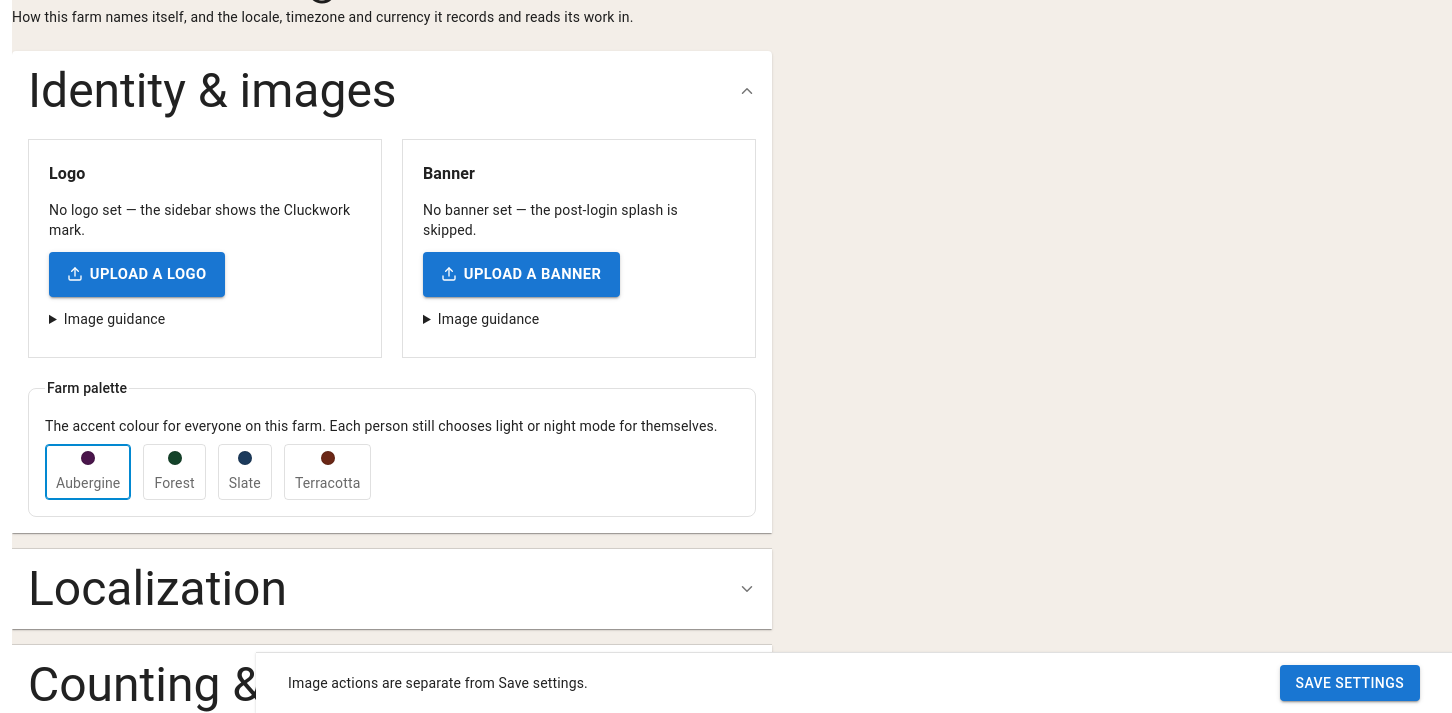
it: SettingsPage saving › sends every field, the base version, and an idempotency key
Click the button "Localization". click: (157, 588)
box: [12,549,772,629]
(page scrolled)
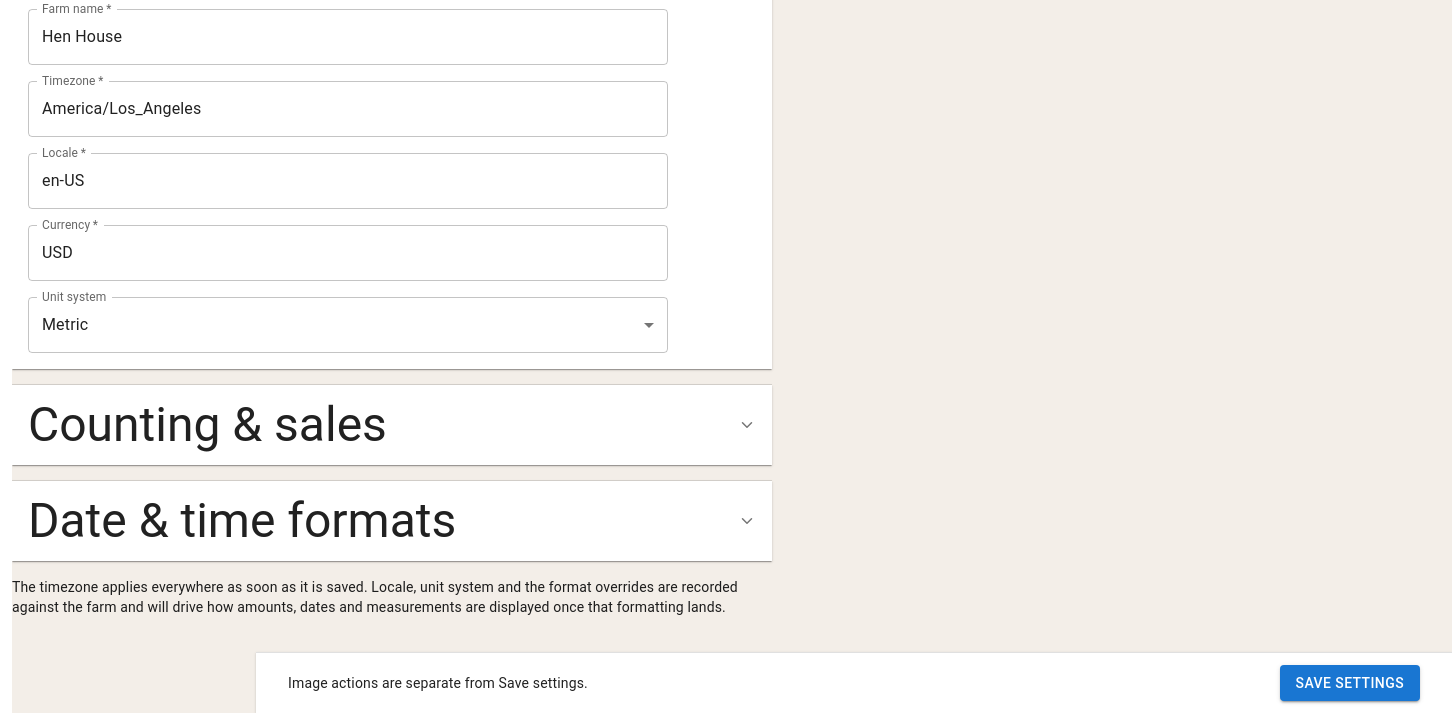
Click the button "Date & time formats". click: (392, 521)
box: [12,481,772,561]
(page scrolled)
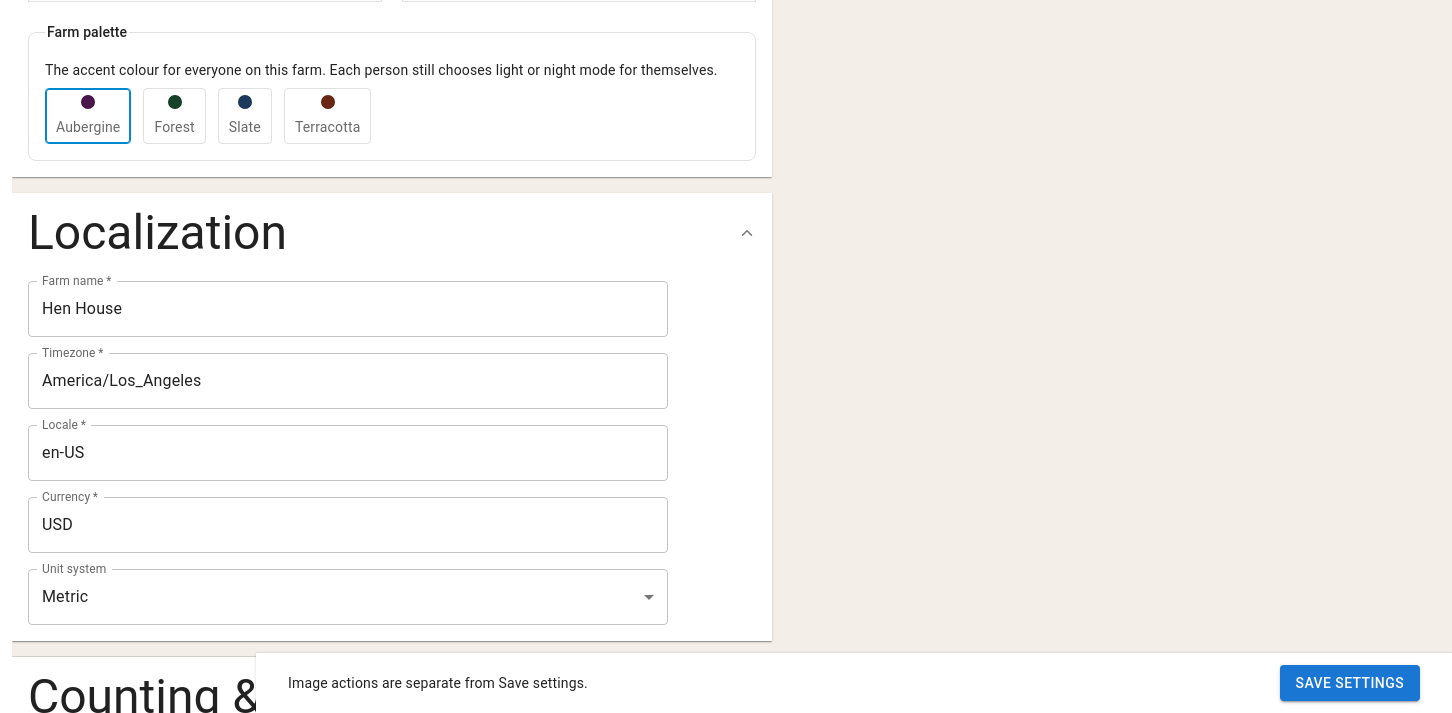
Replace the text in the field labelled "Farm name *" with "Coop Co". click: (348, 309)
box: [28,281,668,337]
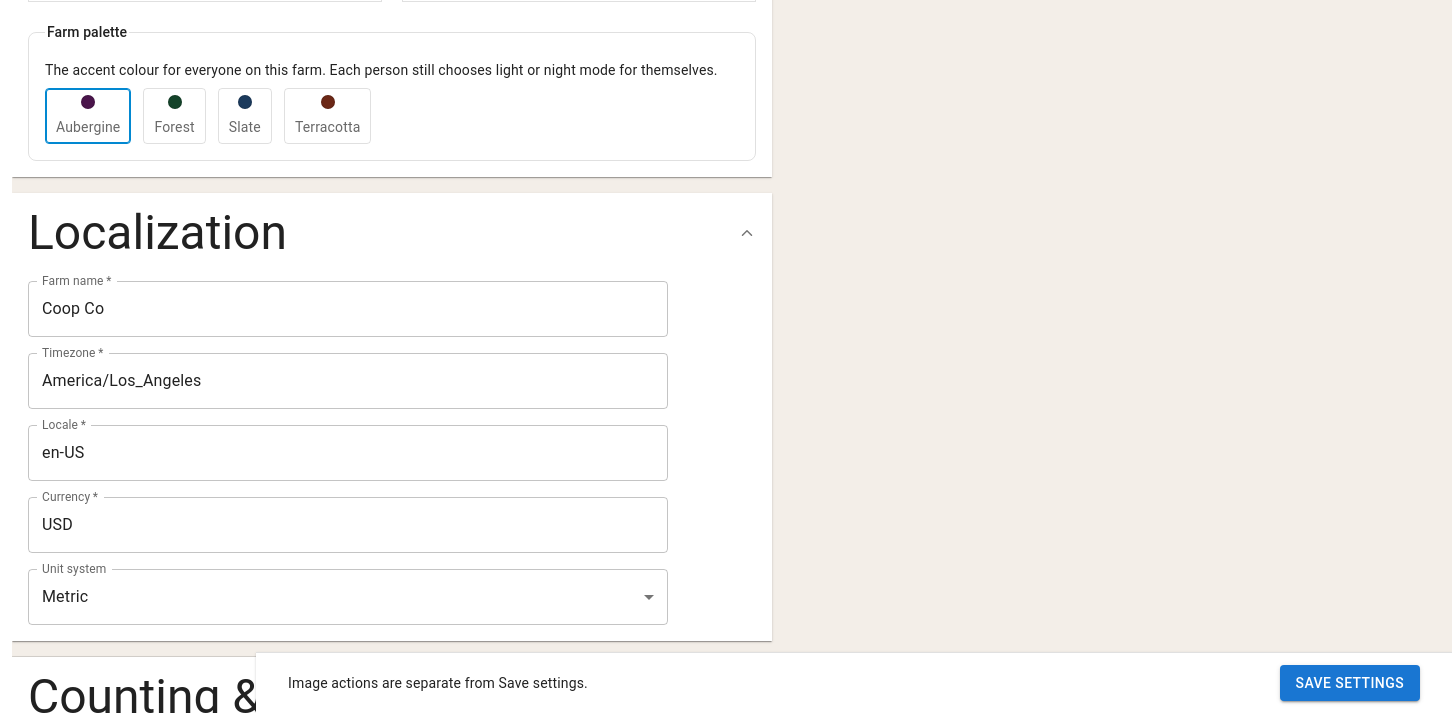
Select "Imperial" in the dropdown labelled "Unit system". click: (348, 597)
box: [28,569,668,625]
(page scrolled)
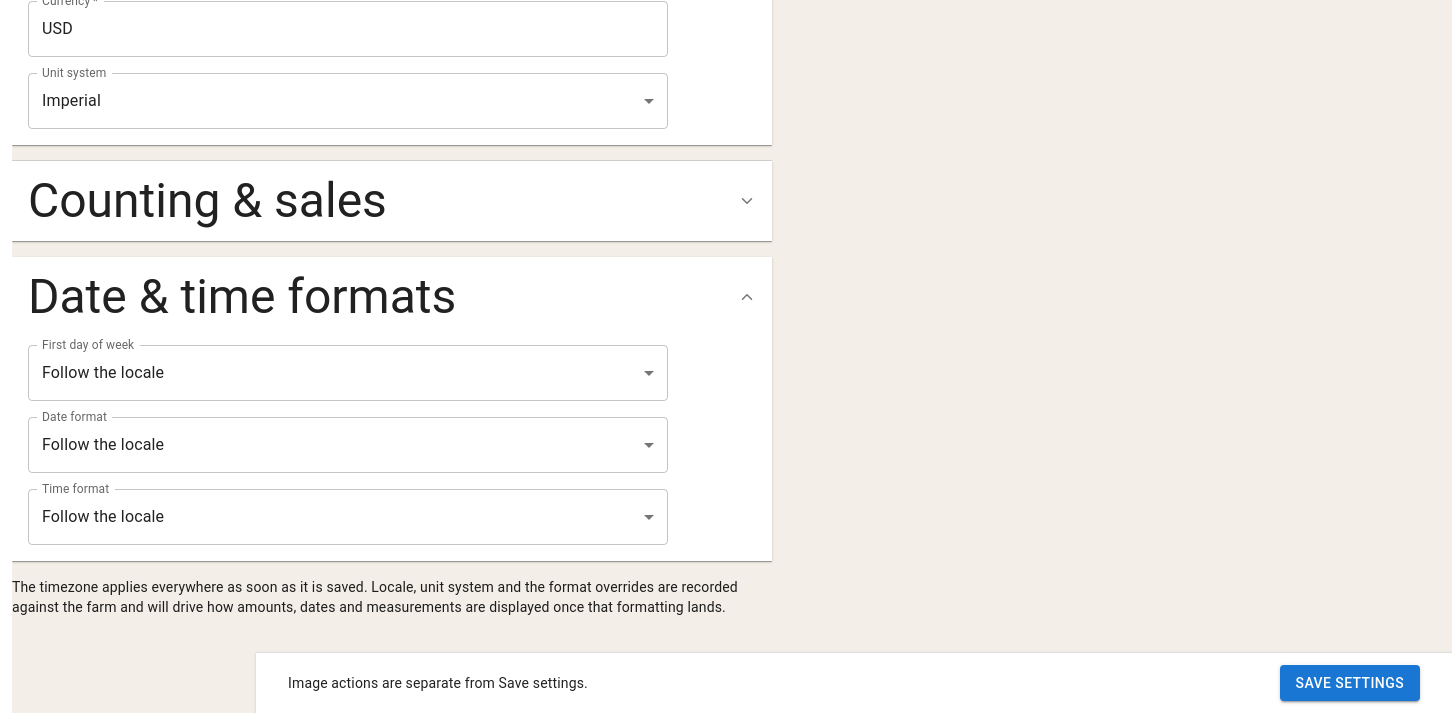
Select "Sunday" in the dropdown labelled "First day of week". click: (348, 373)
box: [28,345,668,401]
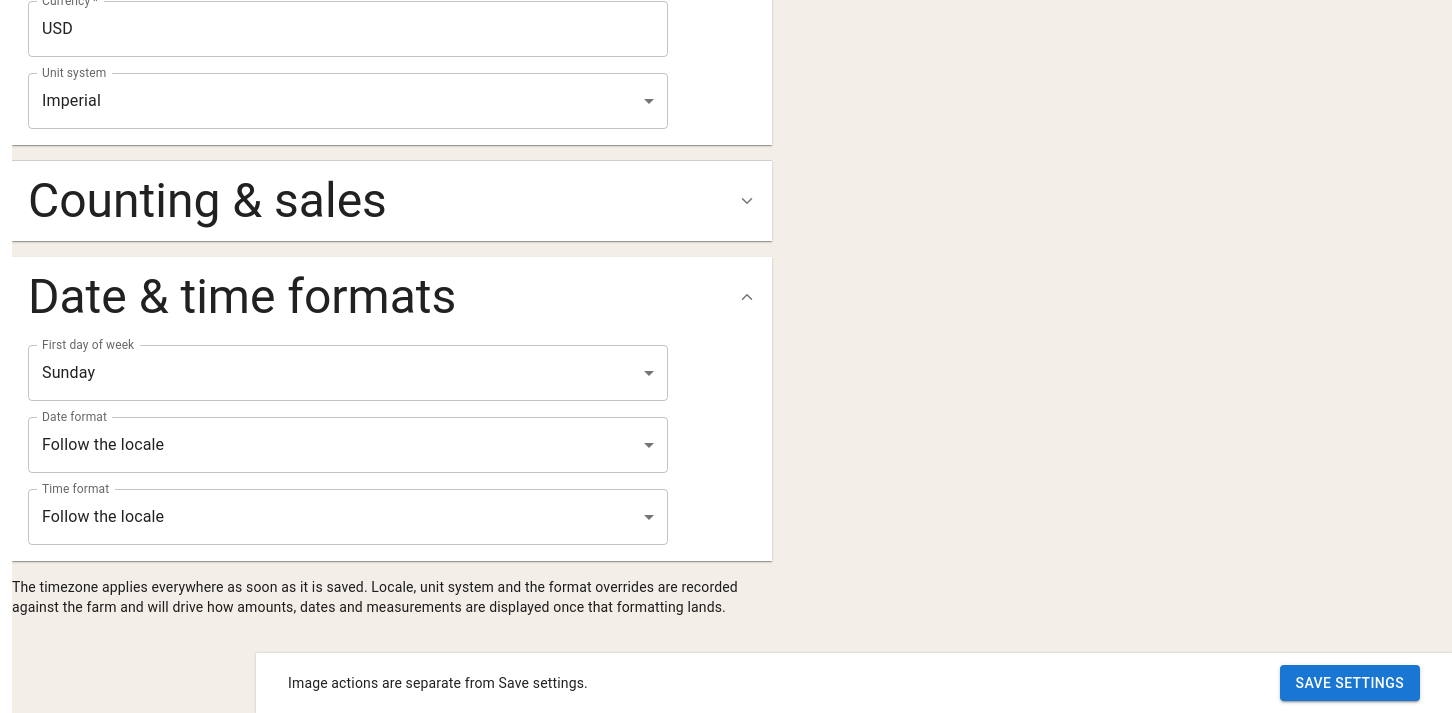
Click the button "Save settings". click: (1350, 683)
box: [1280,664,1420,701]
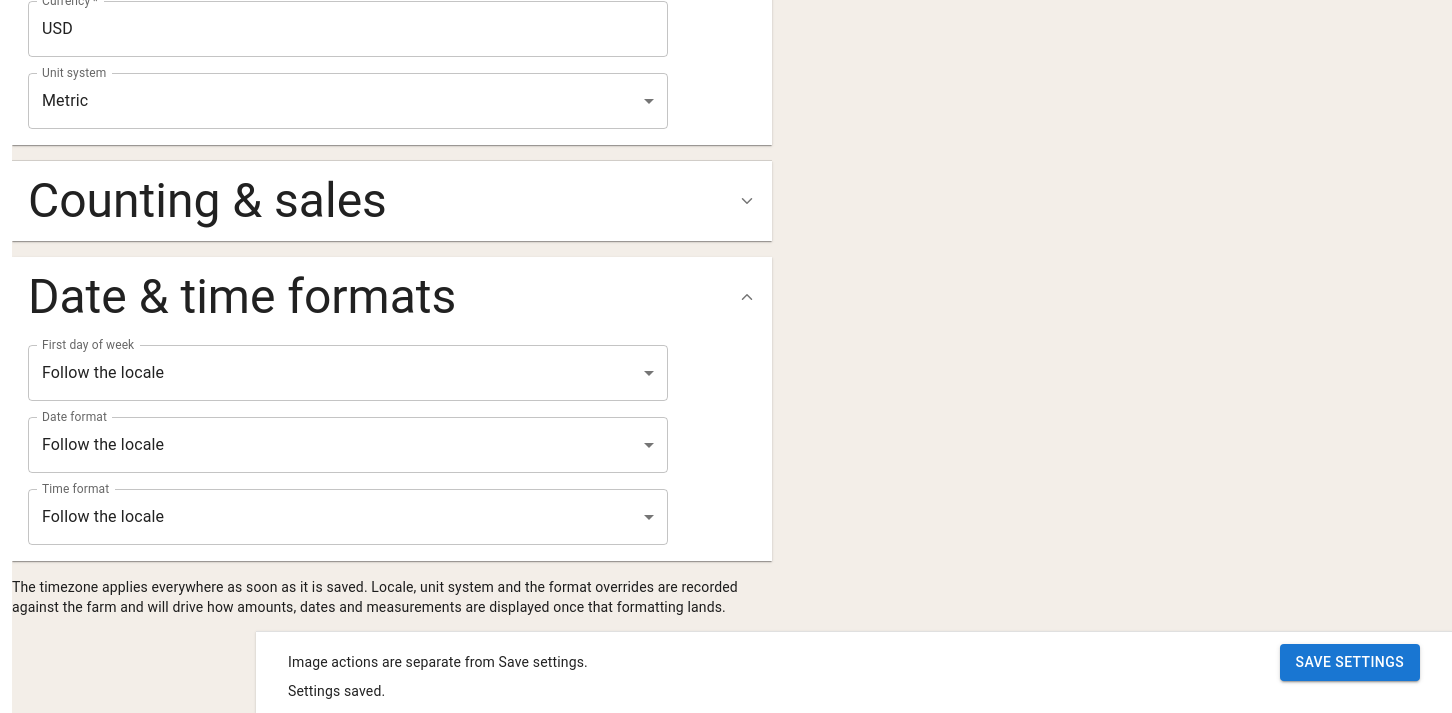
Check: the text "Settings saved." is shown, box [288,683,385,699]
